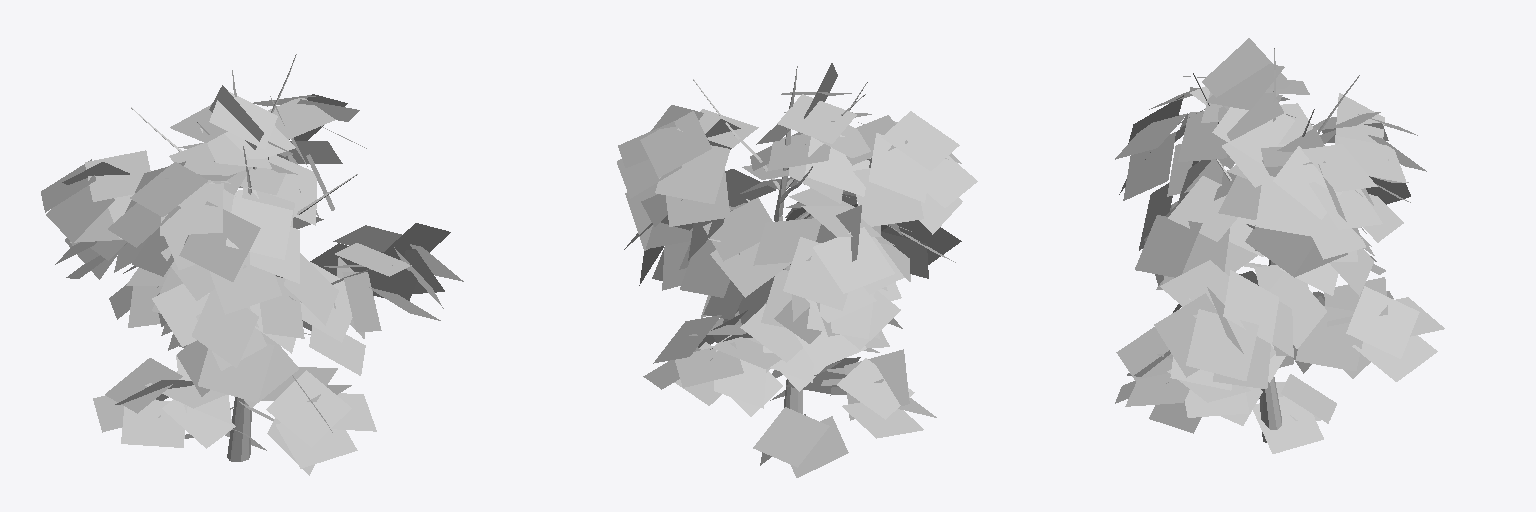
The model's file is tree1b_lod2.obj.
The picture shows the model from 3 angles: view 1: azimuth 30°, elevation 25°; view 2: azimuth 150°, elevation 25°; view 3: azimuth 270°, elevation 25°; orthographic projection.
Visible parts, largest first — view 1: leaves 0.0 0.[number redacted] 0.0 0 0 0 0.[number redacted] 0.[number redacted], bark -0.[number redacted] -0.[number redacted] 0.[number redacted] 0; view 2: leaves 0.0 0.[number redacted] 0.0 0 0 0 0.[number redacted] 0.[number redacted], bark -0.[number redacted] -0.[number redacted] 0.[number redacted] 0; view 3: leaves 0.0 0.[number redacted] 0.0 0 0 0 0.[number redacted] 0.[number redacted], bark -0.[number redacted] -0.[number redacted] 0.[number redacted] 0.
Boxes of the visible parts, x1,y1,x2,y2 form: leaves 0.0 0.[number redacted] 0.0 0 0 0 0.[number redacted] 0.[number redacted]: [41, 85, 463, 475]; bark -0.[number redacted] -0.[number redacted] 0.[number redacted] 0: [131, 54, 357, 461]; leaves 0.0 0.[number redacted] 0.0 0 0 0 0.[number redacted] 0.[number redacted]: [617, 63, 977, 477]; bark -0.[number redacted] -0.[number redacted] 0.[number redacted] 0: [693, 66, 867, 413]; leaves 0.0 0.[number redacted] 0.0 0 0 0 0.[number redacted] 0.[number redacted]: [1115, 38, 1444, 453]; bark -0.[number redacted] -0.[number redacted] 0.[number redacted] 0: [1193, 48, 1359, 442].
Size of the model in its own units: 0.9111 by 1 by 0.7724.